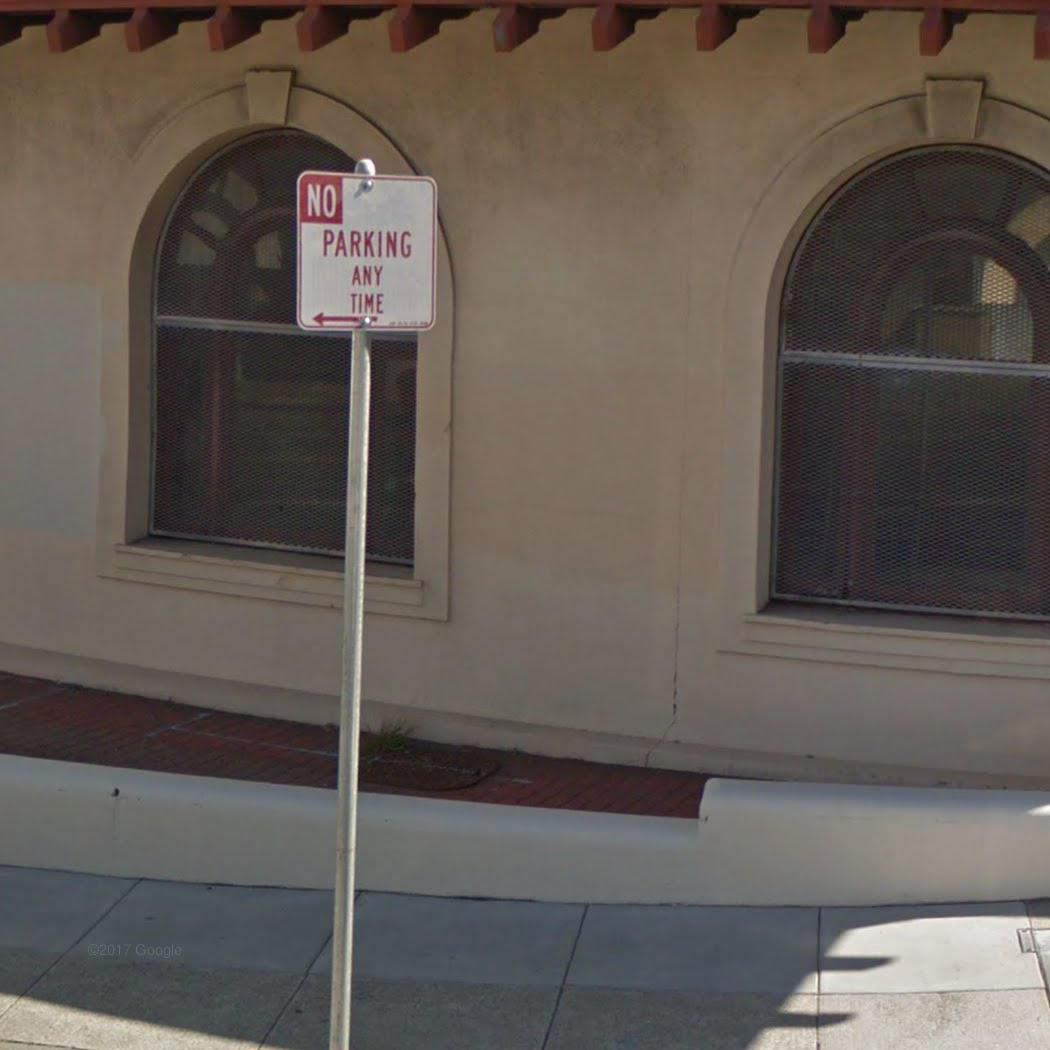No Parking Anytime: (283, 168, 443, 338)
